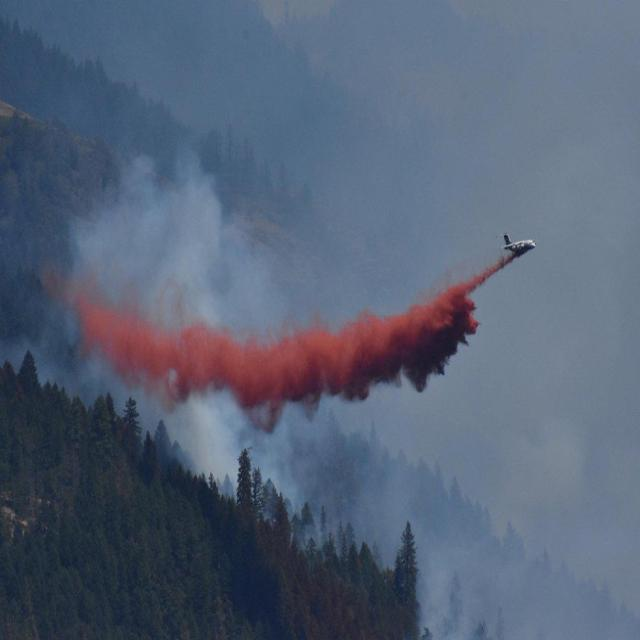Smoke: (44, 141, 312, 533), (357, 456, 640, 640)
